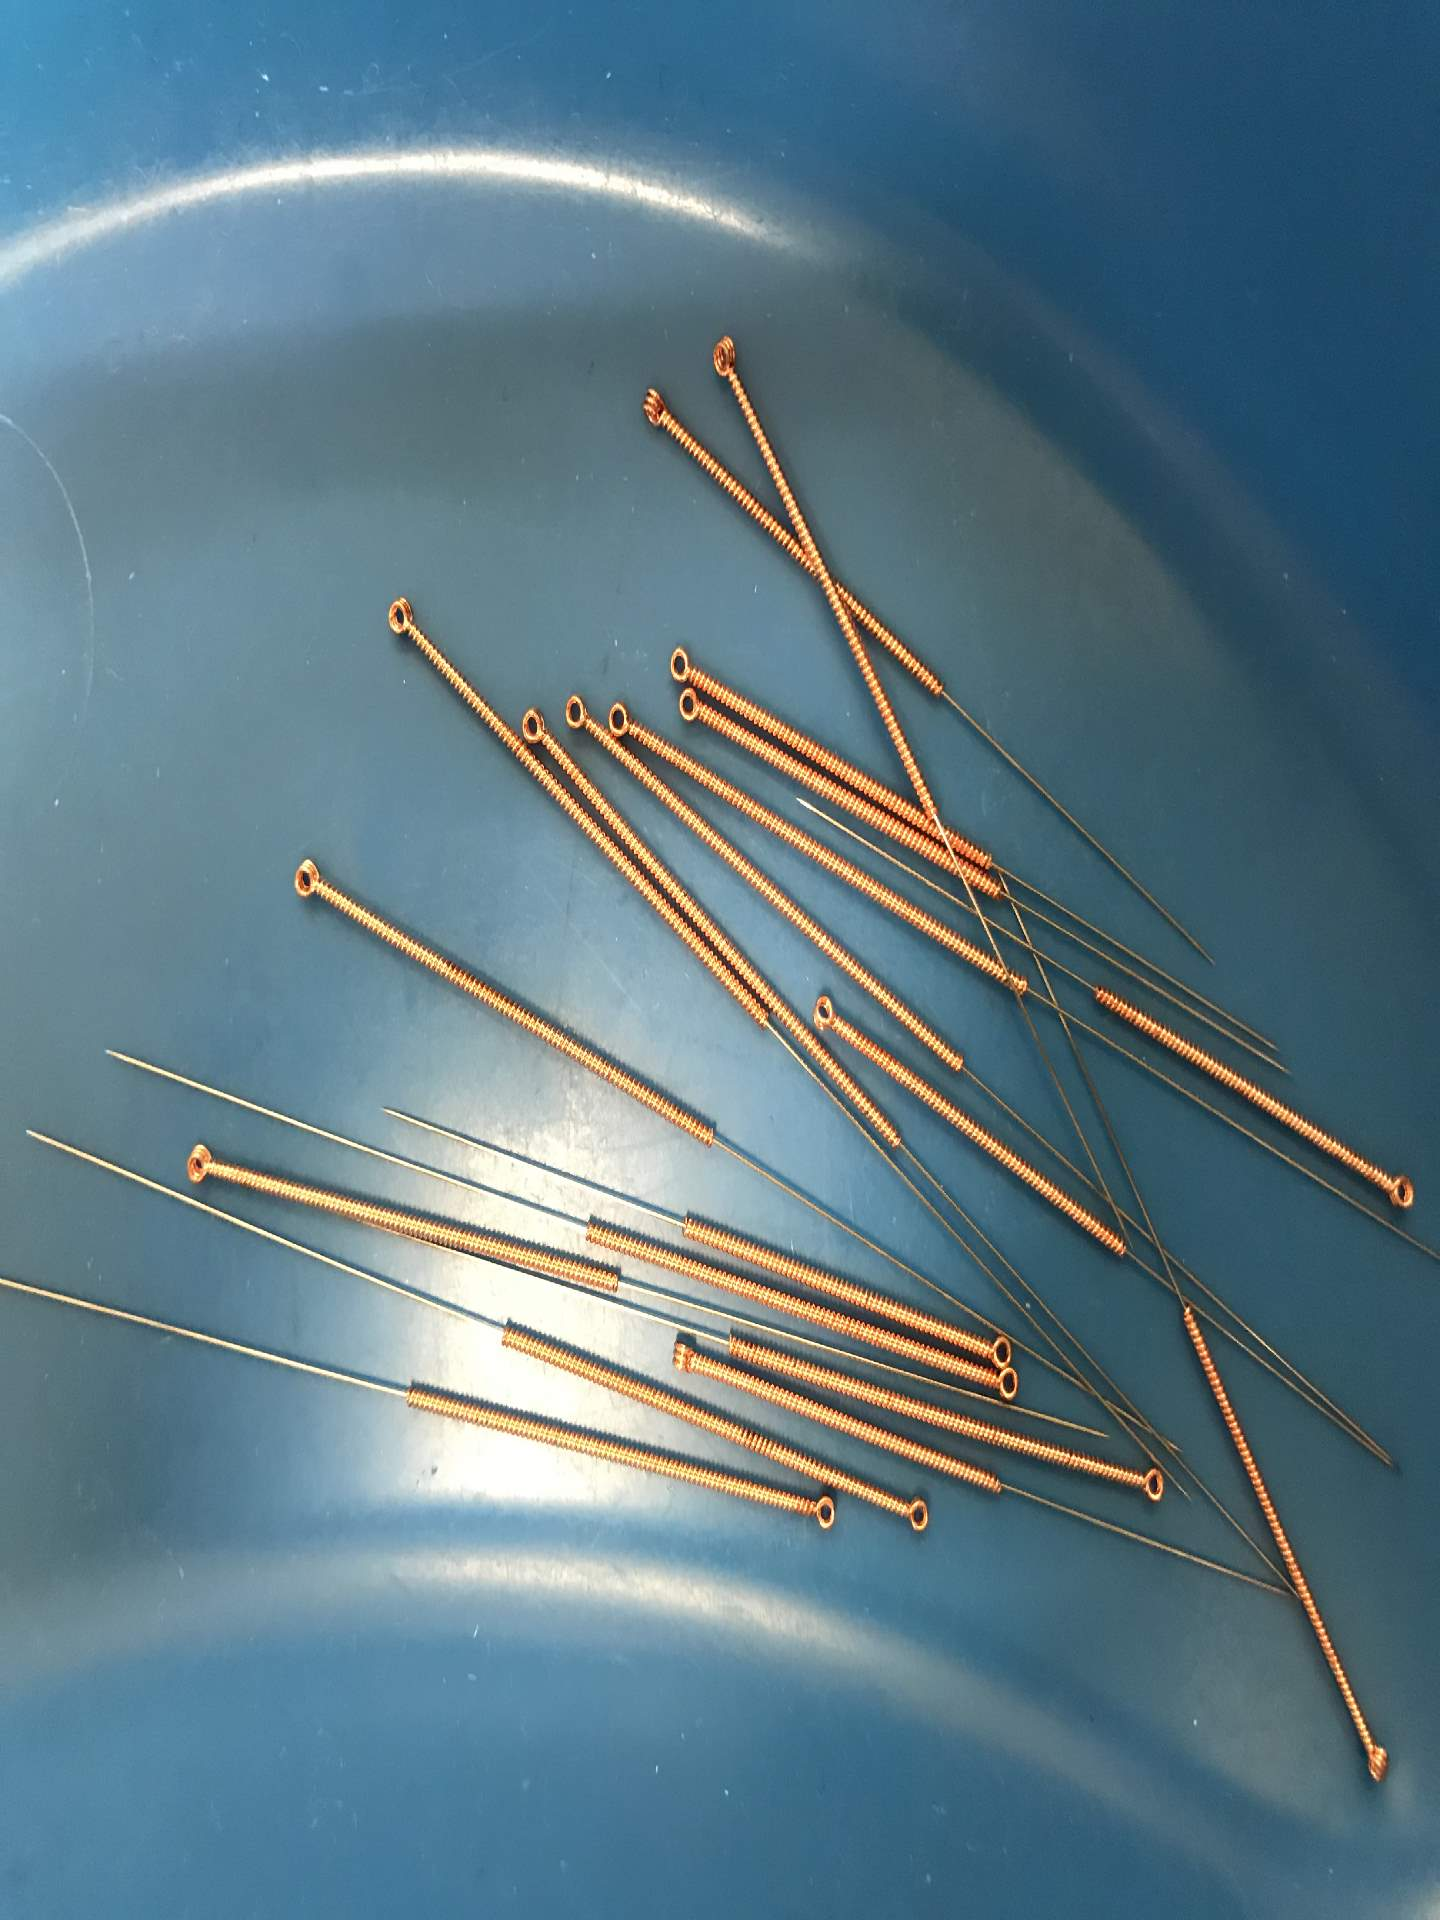needle: (372, 587, 428, 652), (278, 850, 334, 909), (172, 1134, 227, 1194), (1370, 1161, 1423, 1222), (700, 324, 743, 395), (628, 378, 681, 434), (1354, 1731, 1398, 1795), (1122, 1460, 1172, 1510), (555, 689, 604, 739), (889, 1492, 936, 1542), (661, 1333, 706, 1382), (973, 1327, 1021, 1370), (802, 1488, 843, 1538), (659, 639, 702, 686), (666, 685, 708, 730), (806, 989, 844, 1037), (982, 1367, 1026, 1404), (607, 694, 641, 741), (519, 705, 554, 748)
